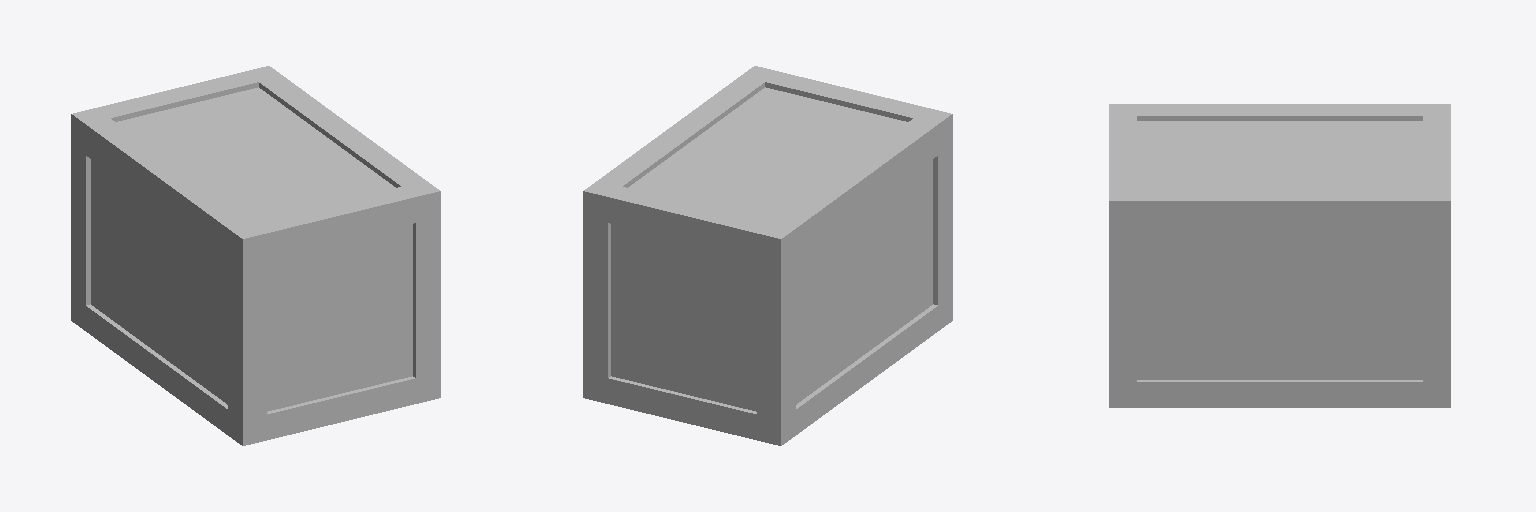
Rendered from rectCrate.obj.
3 views of the same model, side by side, from view 1: azimuth 30°, elevation 25°; view 2: azimuth 150°, elevation 25°; view 3: azimuth 270°, elevation 25° (orthographic).
Visible parts, largest first — view 1: rectCrate; view 2: rectCrate; view 3: rectCrate.
Boxes of the visible parts, box(x1,y1,x2,y2) form: rectCrate: box(71, 66, 440, 445); rectCrate: box(583, 66, 952, 445); rectCrate: box(1109, 104, 1450, 407).
Bounding box in the file's own units: 40 × 40 × 60.